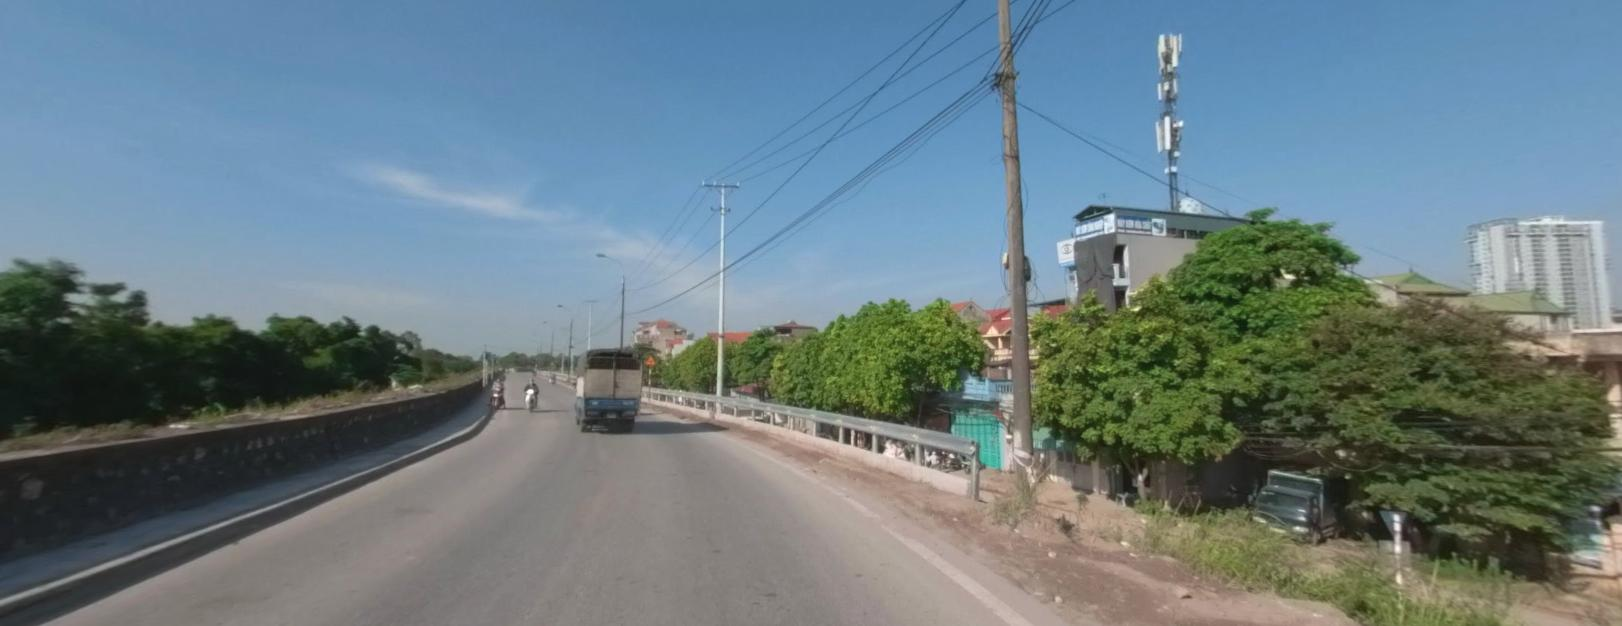Nguy hiem: (644, 354, 655, 364)
